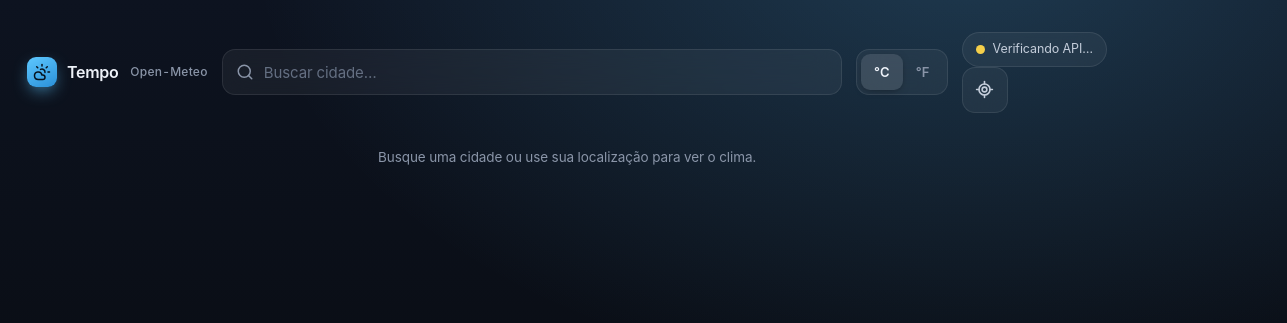
WeatherDashboardPage › #12 keeps manual search working when permission is denied
Click the button named "Usar minha localização": [984, 90] box [962,67,1008,113]
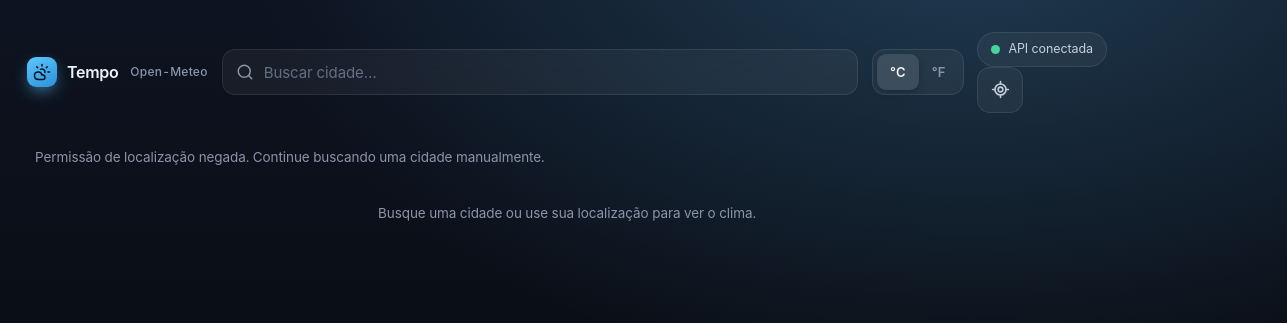
Expected: the dropdown is enabled, [264,50,844,94]
Now the text "Permissão de localização negada. Continue buscando uma cidade manualmente." is shown, box [35,149,545,165]
